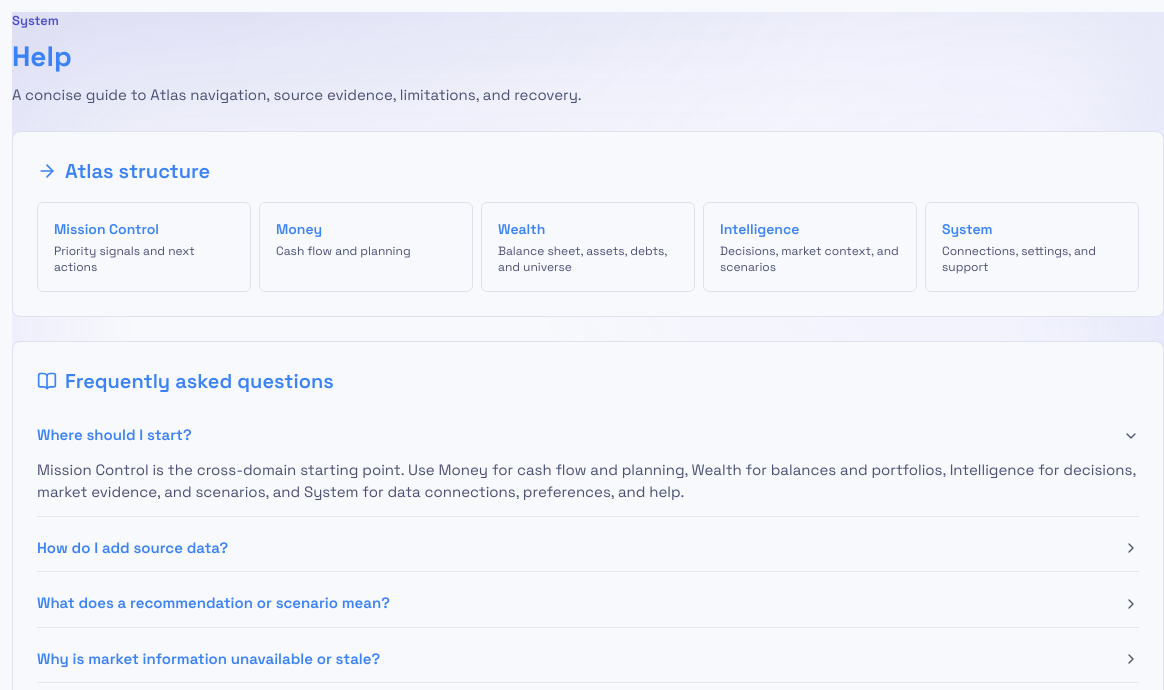
Test: System Help destination › keeps FAQ disclosure keyboard and screen-reader state explicit
expect the element with id "faq-panel-0" is shown: met, box [37,459,1139,516]
Click the button "Where should I start?" at (114, 435), box [37,412,1139,459]
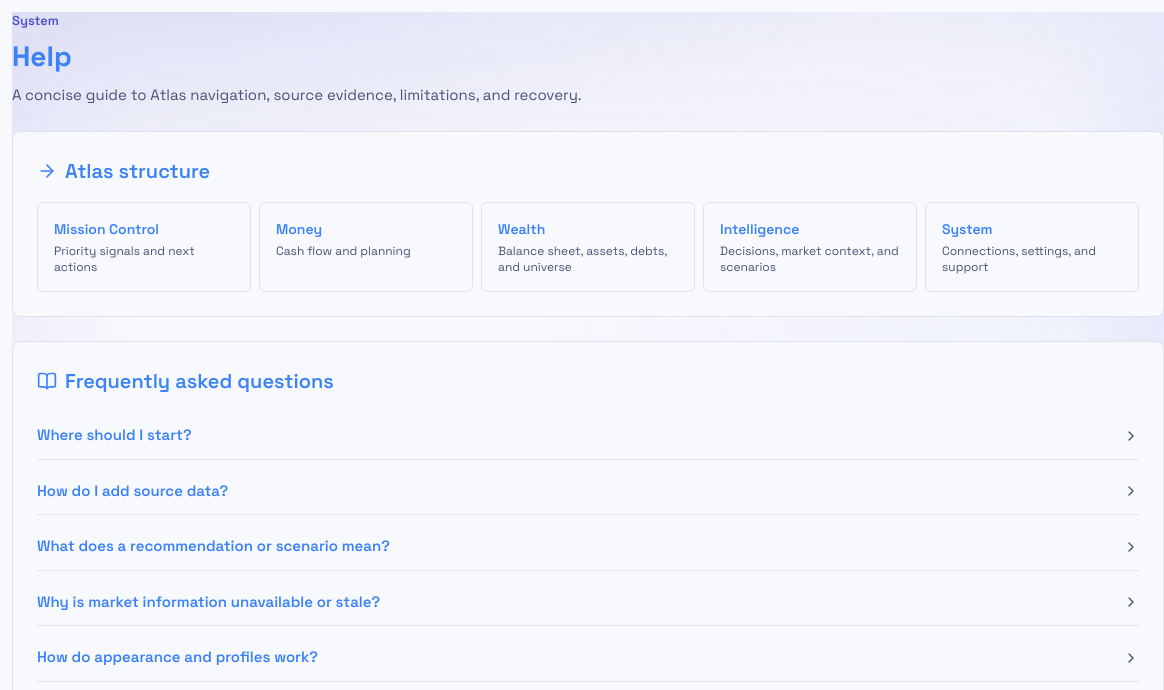
expect the button "Where should I start?" is collapsed: met
expect the element with id "faq-panel-0" is gone: met
Click the button "Where should I start?" at (114, 435), box [37,412,1139,459]
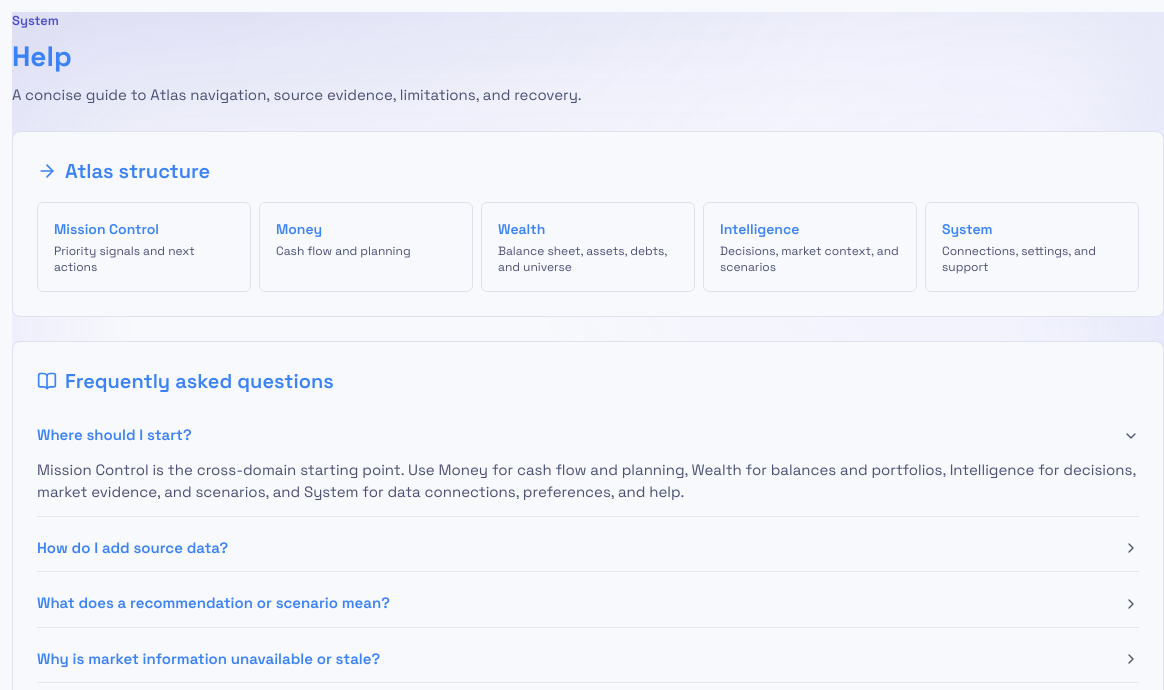
expect the button "Where should I start?" is expanded: met, box [37,412,1139,459]
expect the element with id "faq-panel-0" is shown: met, box [37,459,1139,516]
